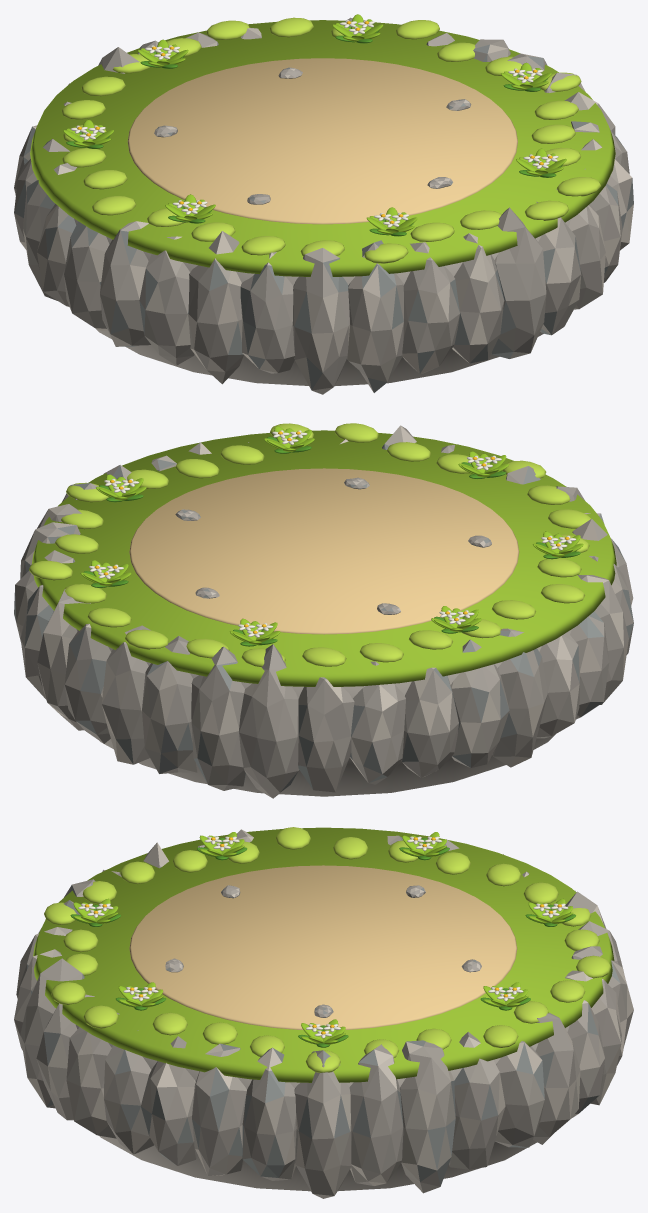
Rendered from island_large.glb.
3 renders of one model, top to bottom at view 1: azimuth 30°, elevation 25°; view 2: azimuth 150°, elevation 25°; view 3: azimuth 270°, elevation 25°, orthographic.
Parts seen in each view (by area): view 1: island_large; view 2: island_large; view 3: island_large.
Boxes of the visible parts, <box> form: island_large: <box>14,14,633,394</box>; island_large: <box>14,423,633,798</box>; island_large: <box>14,827,633,1198</box>.
Size of the model in its own units: 6.27 by 1.79 by 6.3.
